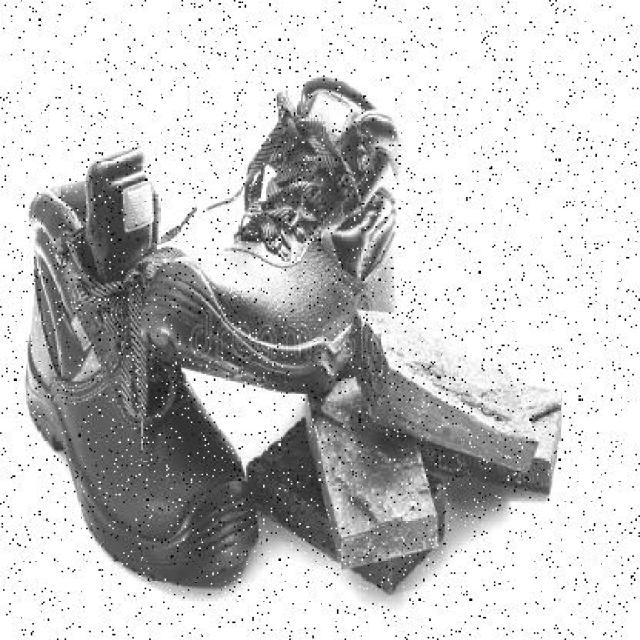shoes: (17, 170, 246, 579), (162, 98, 398, 382)
